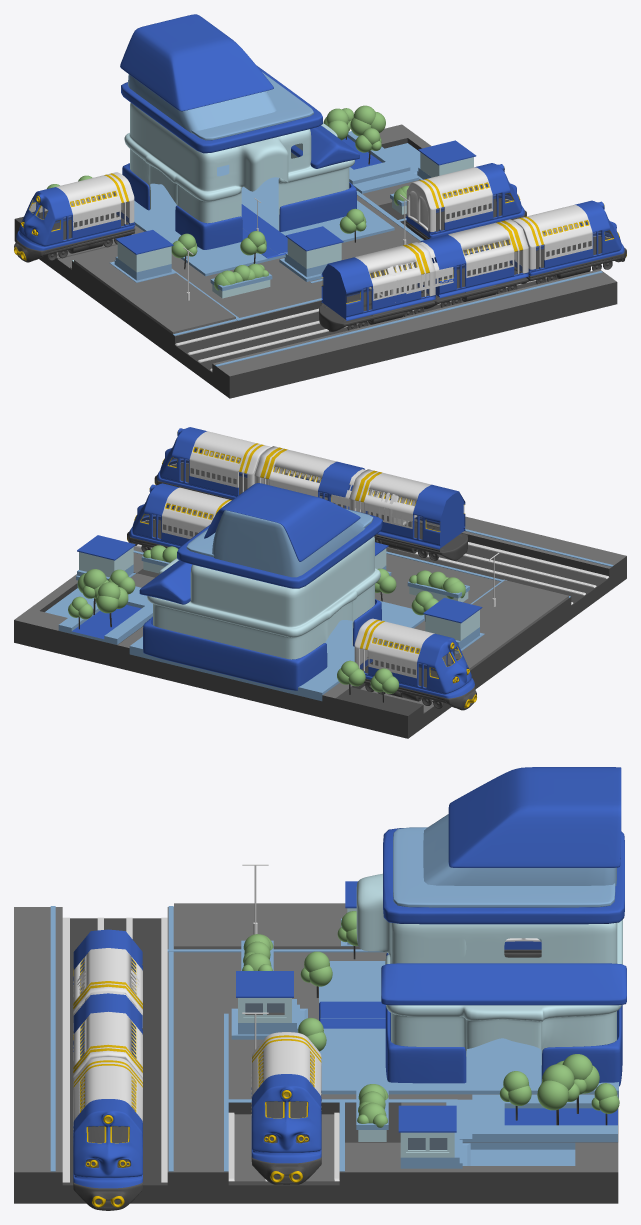
File: train-station-3d-animated-icon-932550465400.glb
3 renders of one model, top to bottom at view 1: azimuth 30°, elevation 25°; view 2: azimuth 150°, elevation 25°; view 3: azimuth 270°, elevation 25°, orthographic. The views are drawn at different scales.
Parts seen in each view (by area): view 1: land, building 2, building, train 3, train 1, train 1.086, train 2, train 1.001, train 1.040, plant wall, tree.001, tree.031 (+4 smaller); view 2: land, building 2, building, train 3, train 1, train 1.001, train 2, train 1.086, tree.001, train 1.040, plant wall, tree.021 (+3 smaller); view 3: land, building 2, building, train 2, train 1.001, train 1.086, train 1, tree.001, tree.031, tree.021, plant wall, tree.051 (+2 smaller).
Boxes of the visible parts, x1,y1,x2,y2 form: land: [14, 124, 617, 398]; building 2: [109, 15, 476, 282]; building: [120, 14, 359, 249]; train 3: [14, 172, 135, 262]; train 1: [319, 242, 435, 331]; train 1.086: [420, 219, 529, 309]; train 2: [405, 163, 526, 239]; train 1.001: [512, 200, 626, 284]; train 1.040: [368, 242, 453, 302]; plant wall: [210, 193, 450, 298]; tree.001: [48, 108, 408, 290]; tree.031: [350, 105, 385, 136]; land: [14, 473, 626, 738]; building 2: [76, 483, 484, 690]; building: [139, 483, 382, 690]; train 3: [354, 618, 476, 710]; train 1: [349, 469, 467, 560]; train 1.001: [154, 427, 270, 499]; train 2: [127, 483, 231, 552]; train 1.086: [254, 446, 372, 515]; tree.001: [68, 545, 465, 702]; train 1.040: [331, 469, 417, 525]; plant wall: [141, 556, 469, 602]; tree.021: [95, 582, 128, 627]; land: [14, 903, 618, 1203]; building 2: [231, 767, 626, 1168]; building: [356, 767, 626, 1086]; train 2: [251, 1032, 321, 1184]; train 1.001: [73, 1057, 142, 1210]; train 1.086: [73, 993, 142, 1080]; train 1: [73, 929, 142, 1031]; tree.001: [242, 934, 619, 1127]; tree.031: [537, 1064, 574, 1125]; tree.021: [557, 1054, 599, 1113]; plant wall: [241, 940, 388, 1141]; tree.051: [300, 951, 332, 997].
Bounding box in the file's own units: 2.55 × 0.9764 × 2.11.
